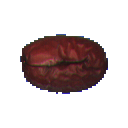ng: (15, 30, 114, 98)
